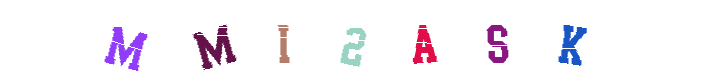2: (304, 0, 384, 80)
A: (324, 0, 404, 80)
I: (278, 0, 358, 80)
K: (531, 0, 611, 80)
M: (85, 0, 165, 80), (256, 0, 336, 80)
S: (384, 0, 464, 80)
